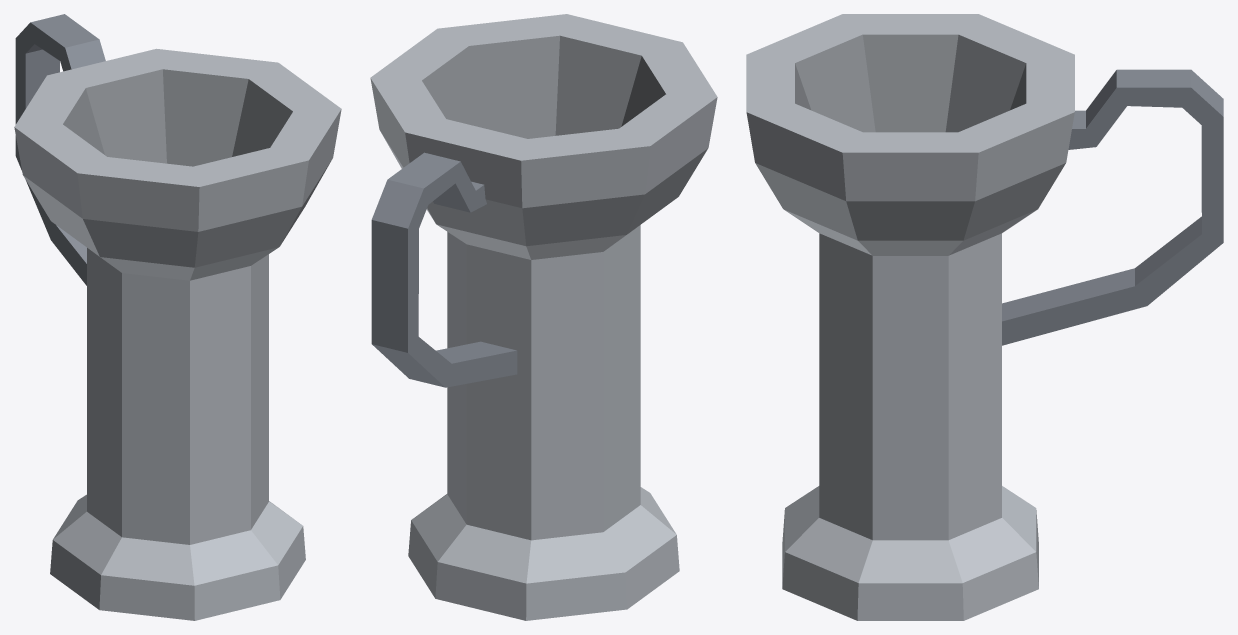
File: SM_Prop_Vase_Tall_01.fbx
The picture shows the model from 3 angles, left to right: view 1: azimuth 30°, elevation 25°; view 2: azimuth 150°, elevation 25°; view 3: azimuth 270°, elevation 25°; orthographic projection. The views are drawn at different scales.
Parts seen in each view (by area): view 1: SM_Prop_Vase_Tall_01; view 2: SM_Prop_Vase_Tall_01; view 3: SM_Prop_Vase_Tall_01.
Part boxes in pixels (x1,y1,x2,y2): SM_Prop_Vase_Tall_01: (14,14,341,620); SM_Prop_Vase_Tall_01: (370,14,717,620); SM_Prop_Vase_Tall_01: (746,14,1223,620).
Bounding box in the file's own units: 28.91 × 47.4 × 42.
